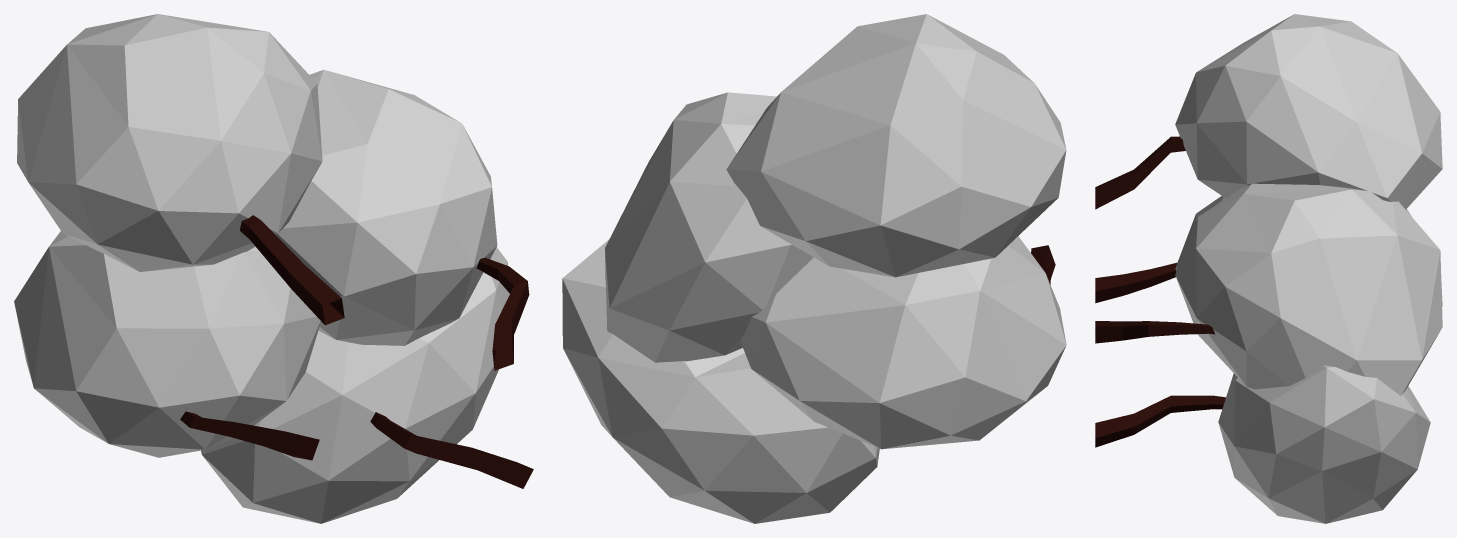
File: SM_Bush_3.fbx
The picture shows the model from 3 angles, left to right: view 1: azimuth 30°, elevation 25°; view 2: azimuth 150°, elevation 25°; view 3: azimuth 270°, elevation 25°; orthographic projection. The views are drawn at different scales.
Visible parts, largest first — view 1: Brush_3; view 2: Brush_3; view 3: Brush_3.
Part boxes in pixels (x1=…): Brush_3: x1=14, y1=14, x2=533, y2=523; Brush_3: x1=562, y1=14, x2=1066, y2=523; Brush_3: x1=1095, y1=14, x2=1442, y2=523.
Bounding box in the file's own units: 56.18 × 60.71 × 44.76.
